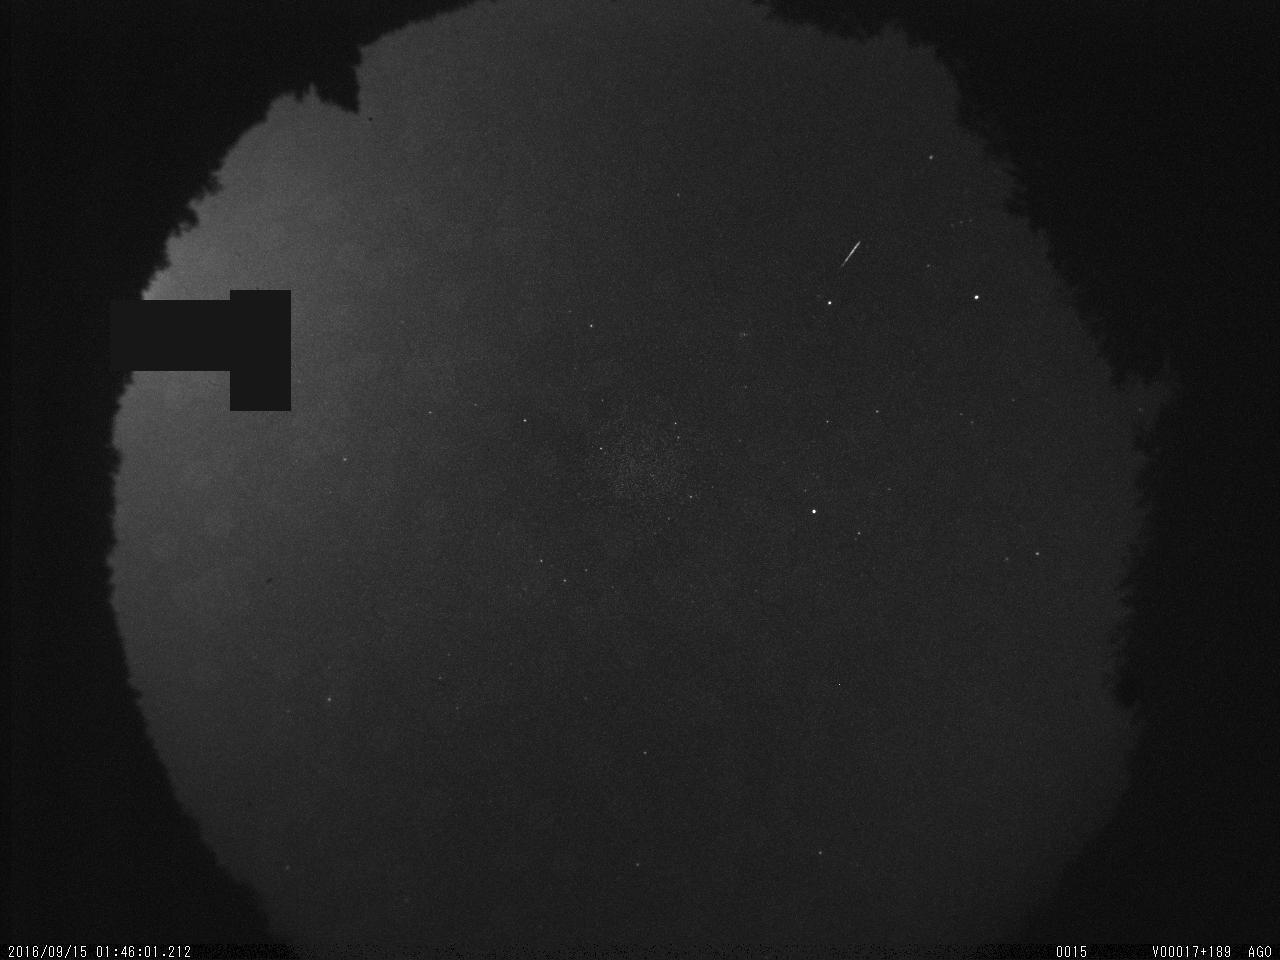meteor: (839, 240, 870, 274)
